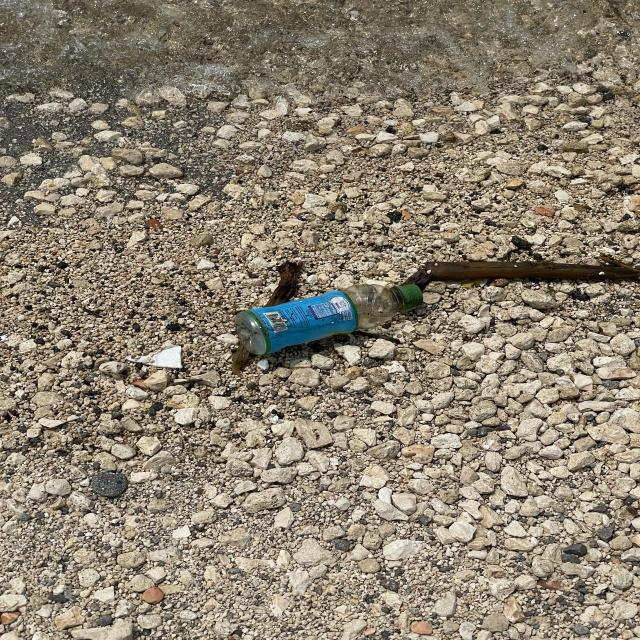plastic_waste: (235, 285, 425, 356)
